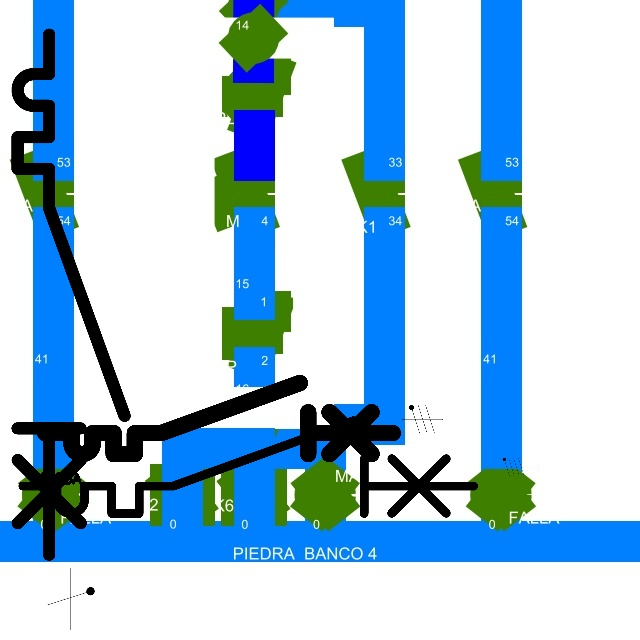interruptor_termomagnetico: (4, 21, 138, 568), (11, 409, 485, 525), (36, 374, 401, 463)
